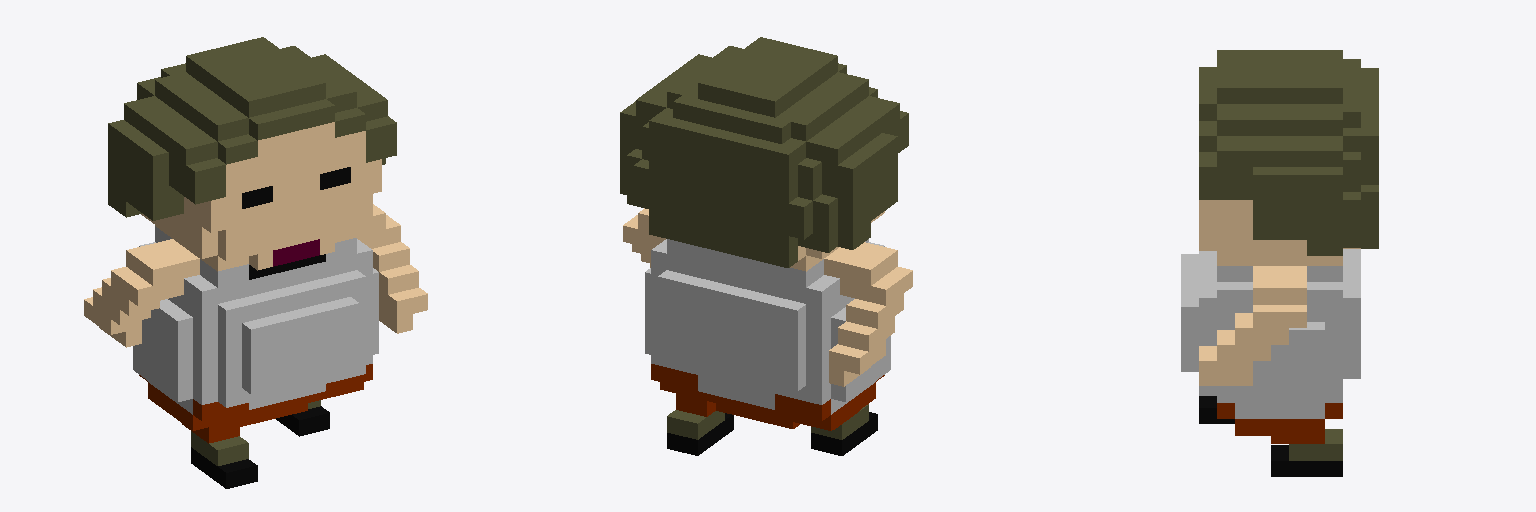
The picture shows the model from 3 angles: view 1: azimuth 30°, elevation 25°; view 2: azimuth 150°, elevation 25°; view 3: azimuth 270°, elevation 25°; orthographic projection.
Visible parts, largest first — view 1: object 1; view 2: object 1; view 3: object 1.
Part boxes in pixels (x1,y1,x2,y2): object 1: (84, 37, 427, 488); object 1: (620, 37, 912, 455); object 1: (1181, 50, 1378, 476).
Bounding box in the file's own units: 1.7 × 2.3 × 1.1.
1 materials, 1 textured.